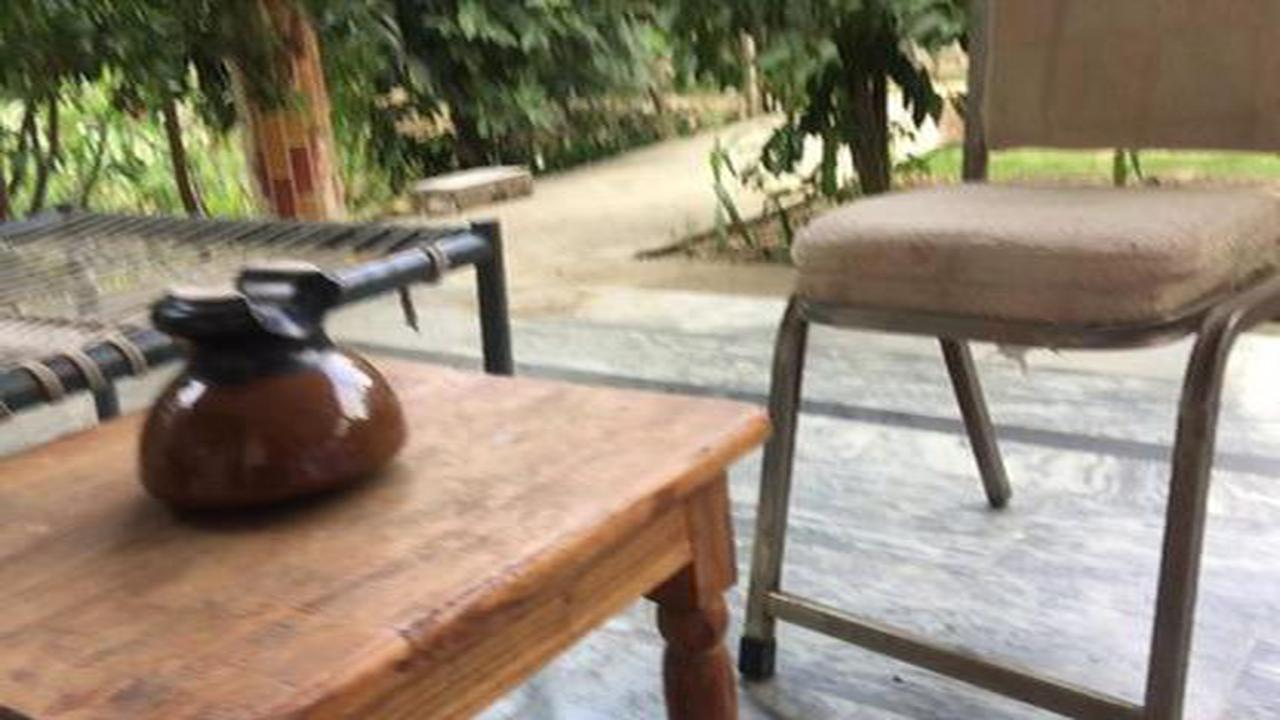insulator_pin: (121, 246, 425, 534)
